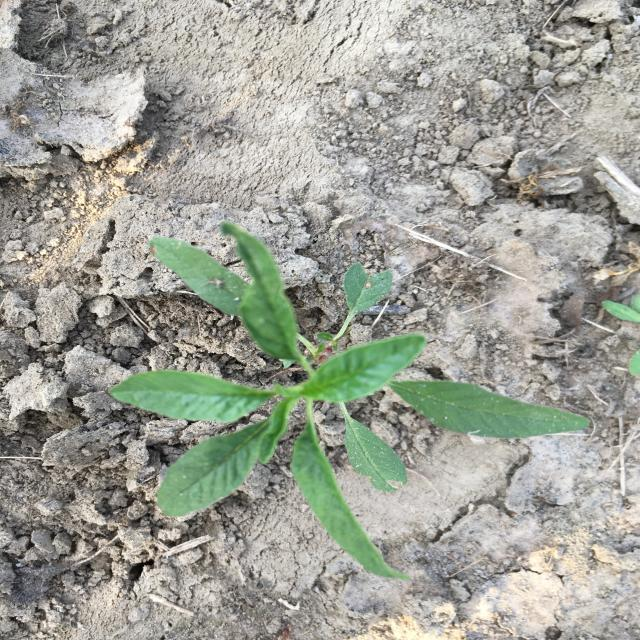Waterhemp: (110, 223, 588, 579)
